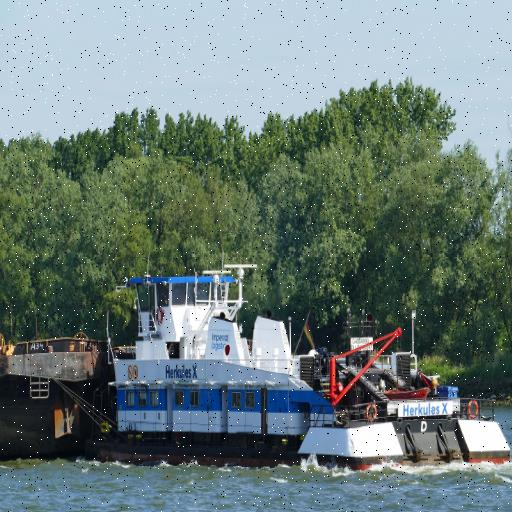tugboat: (80, 249, 512, 482)
